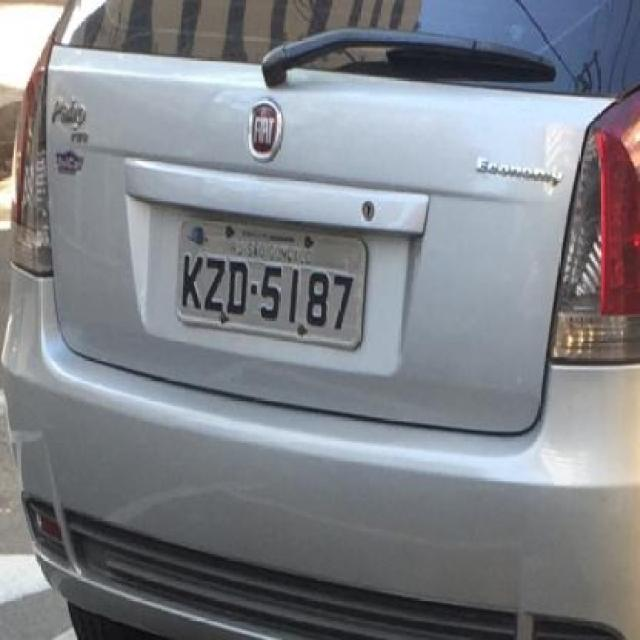old_plate: (166, 210, 374, 356)
